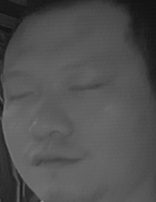blink: (71, 75, 104, 100), (5, 84, 35, 107)
mouth: (24, 143, 86, 175)
